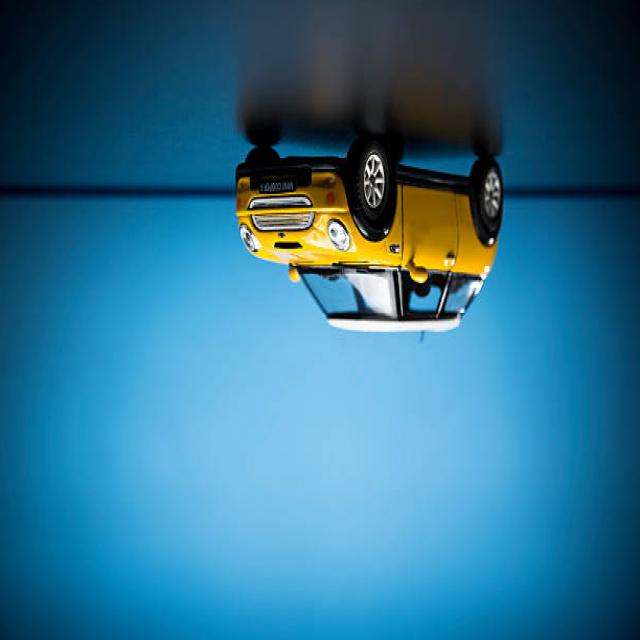Car: (235, 134, 505, 336)
